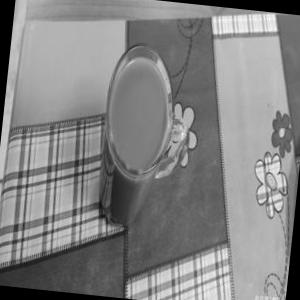coffee: (86, 29, 182, 232)
